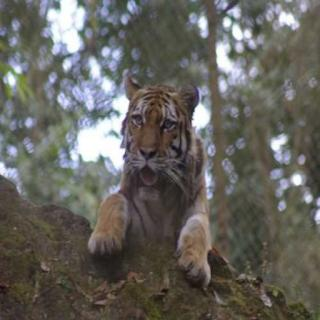Tiger: (81, 71, 220, 296)
